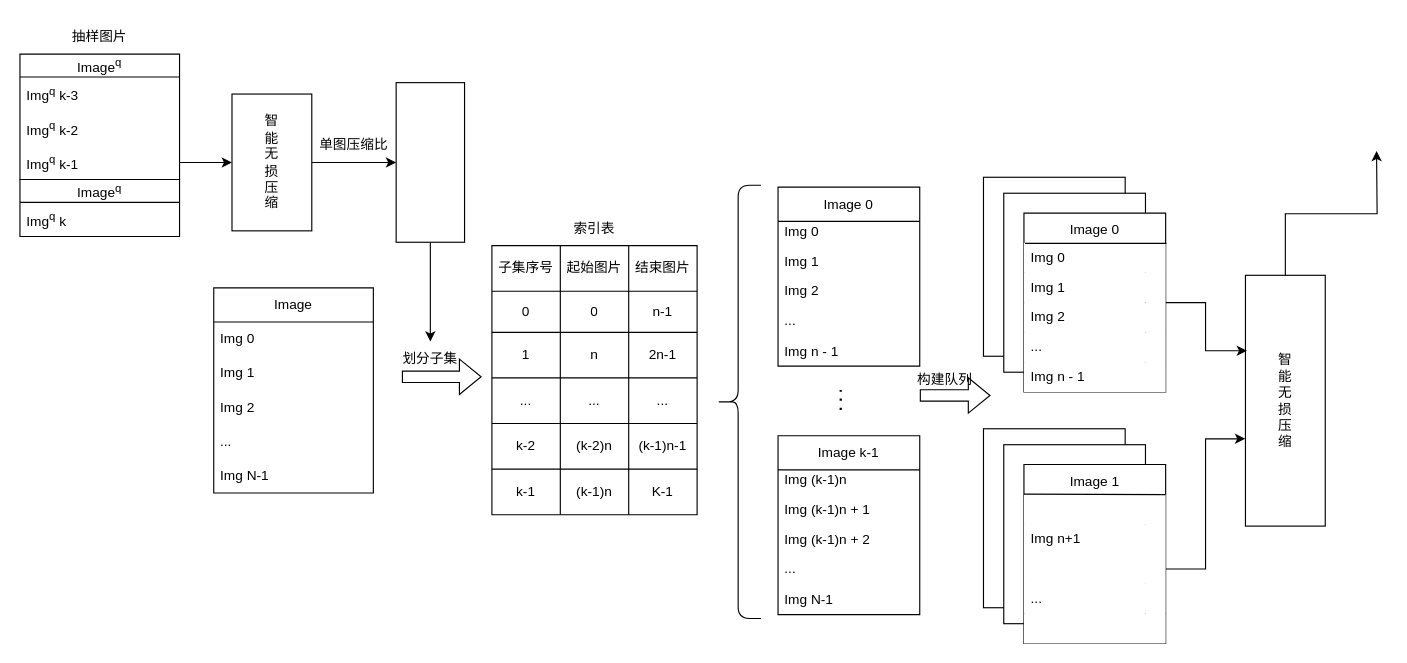
This 1407x663 diagram has some shape labels left out. Each missing label, with the centre of its shape:
Img 2n - 1: the point at 1094,628
Img n: the point at 1094,509
Img n+2: the point at 1094,568
计 算 子 集 大 小 n: the point at 430,162
